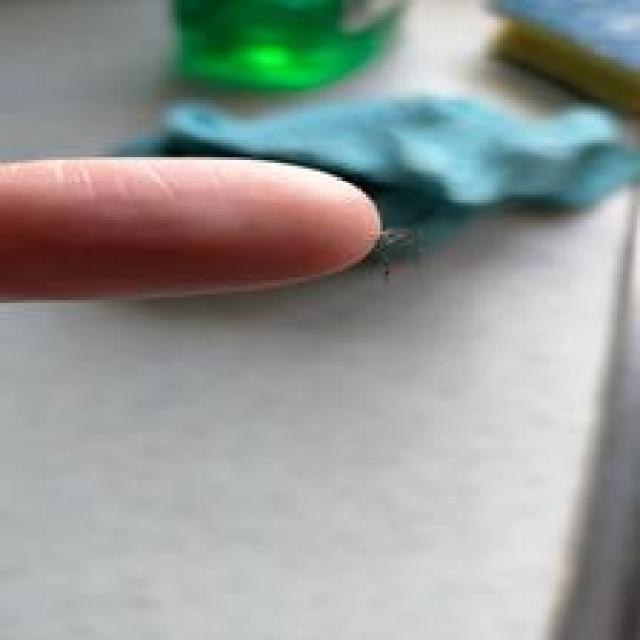Aedes albopictus: (114, 86, 640, 280)
